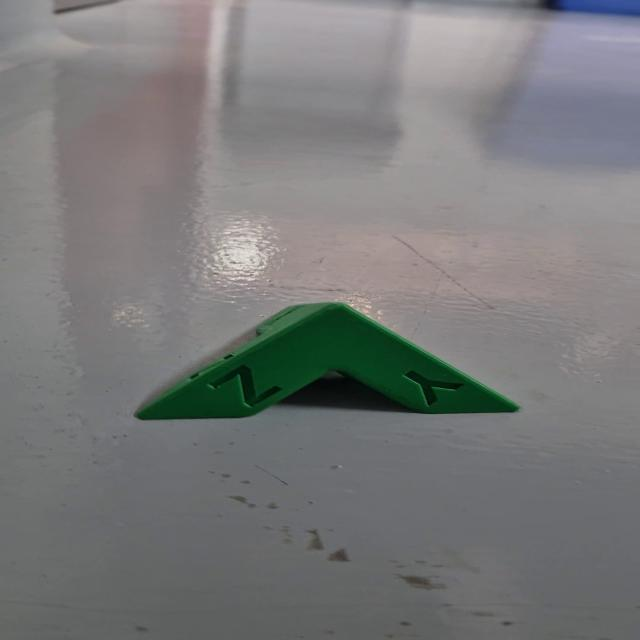objects: (127, 294, 524, 425)
